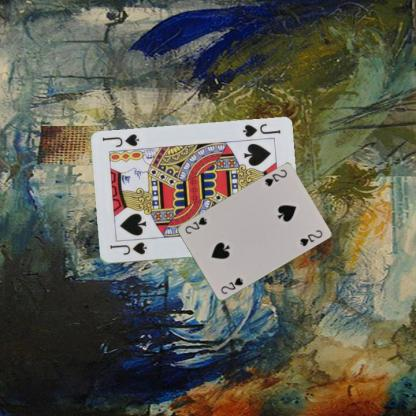2s: (218, 275, 244, 296), (262, 167, 288, 188)
Js: (240, 121, 281, 139), (107, 240, 148, 256)
